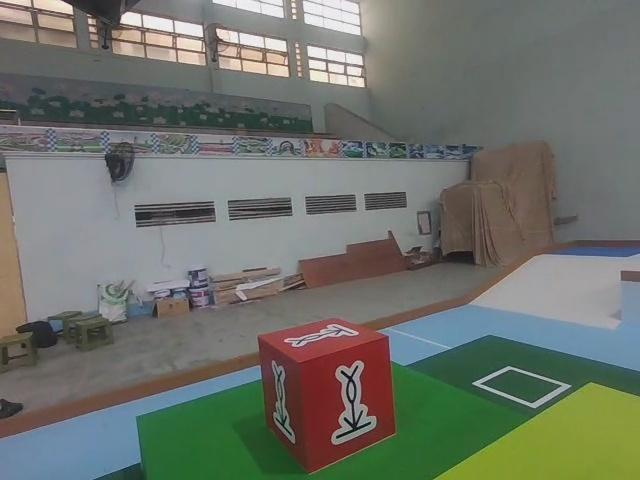R2 Real: (255, 313, 400, 477)
